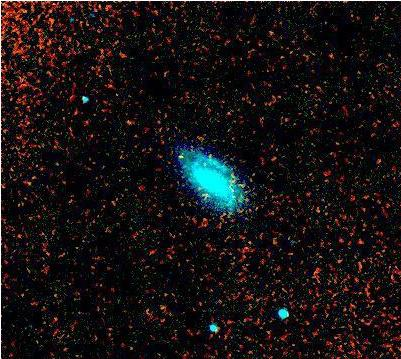star: (113, 107, 143, 137)
